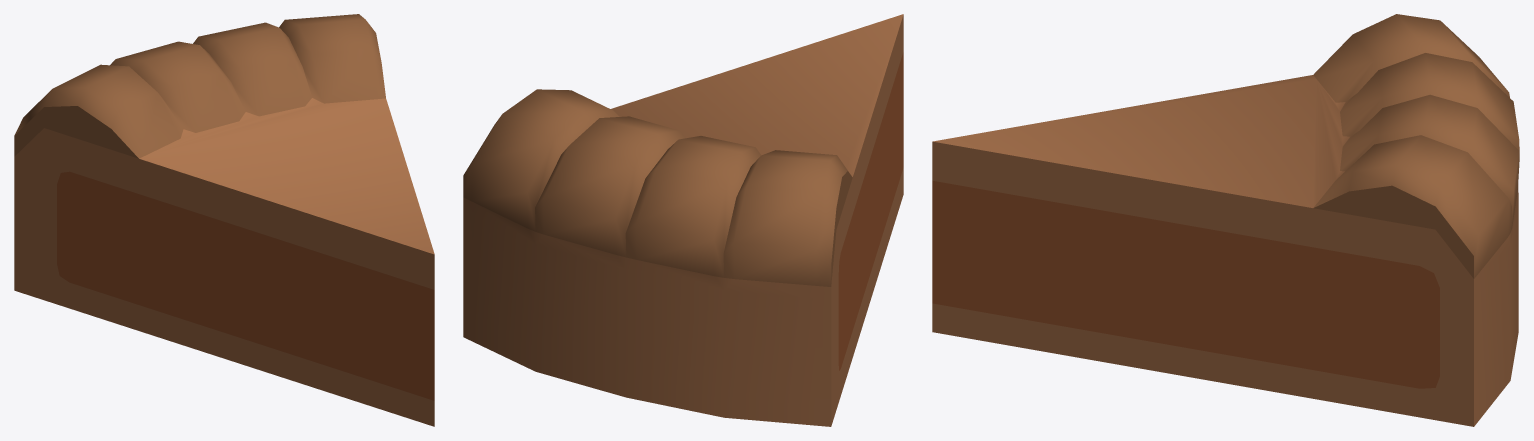
The model's file is ApplePieSlice_01.fbx.
The picture shows the model from 3 angles, left to right: view 1: azimuth 30°, elevation 25°; view 2: azimuth 150°, elevation 25°; view 3: azimuth 270°, elevation 25°; orthographic projection. The views are drawn at different scales.
Visible parts, largest first — view 1: ApplePieSlice_01; view 2: ApplePieSlice_01; view 3: ApplePieSlice_01.
Part boxes in pixels (box(x1,y1,x2,y2)): ApplePieSlice_01: box(14, 14, 434, 426); ApplePieSlice_01: box(463, 14, 903, 426); ApplePieSlice_01: box(932, 14, 1519, 426).
Bounding box in the file's own units: 0.0783 × 0.0468 × 0.1025.
